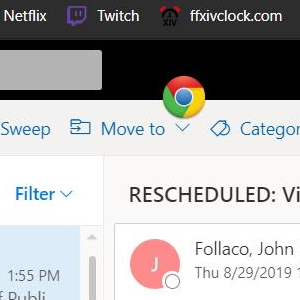chrome: (161, 75, 206, 119)
